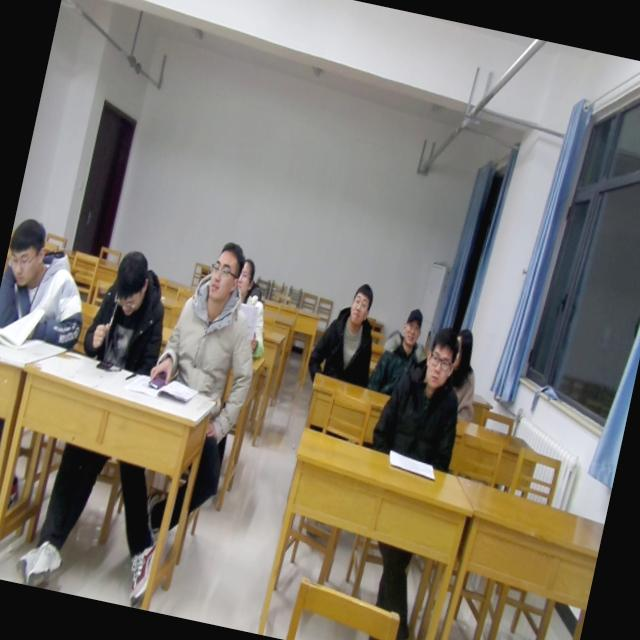bow: (0, 211, 103, 354)
down: (1, 210, 55, 294), (106, 242, 156, 316)
lookup: (201, 233, 247, 314), (417, 322, 465, 394), (342, 278, 376, 330), (397, 303, 427, 348), (233, 253, 260, 298)
sit: (142, 231, 278, 418), (368, 315, 479, 470), (78, 243, 179, 376), (303, 272, 389, 390), (367, 300, 436, 400), (217, 255, 281, 362), (436, 324, 492, 424)
